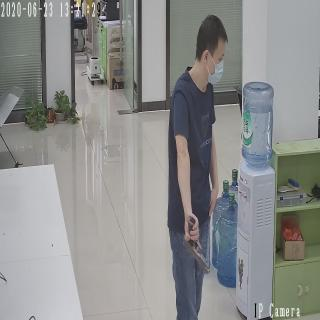gun: (181, 214, 211, 274)
